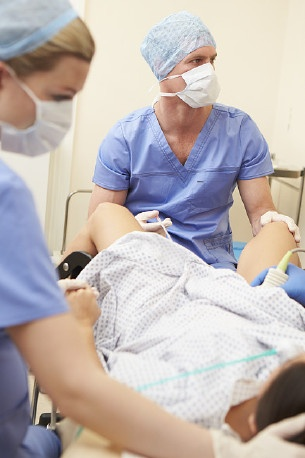Mask: (170, 49, 227, 106)
